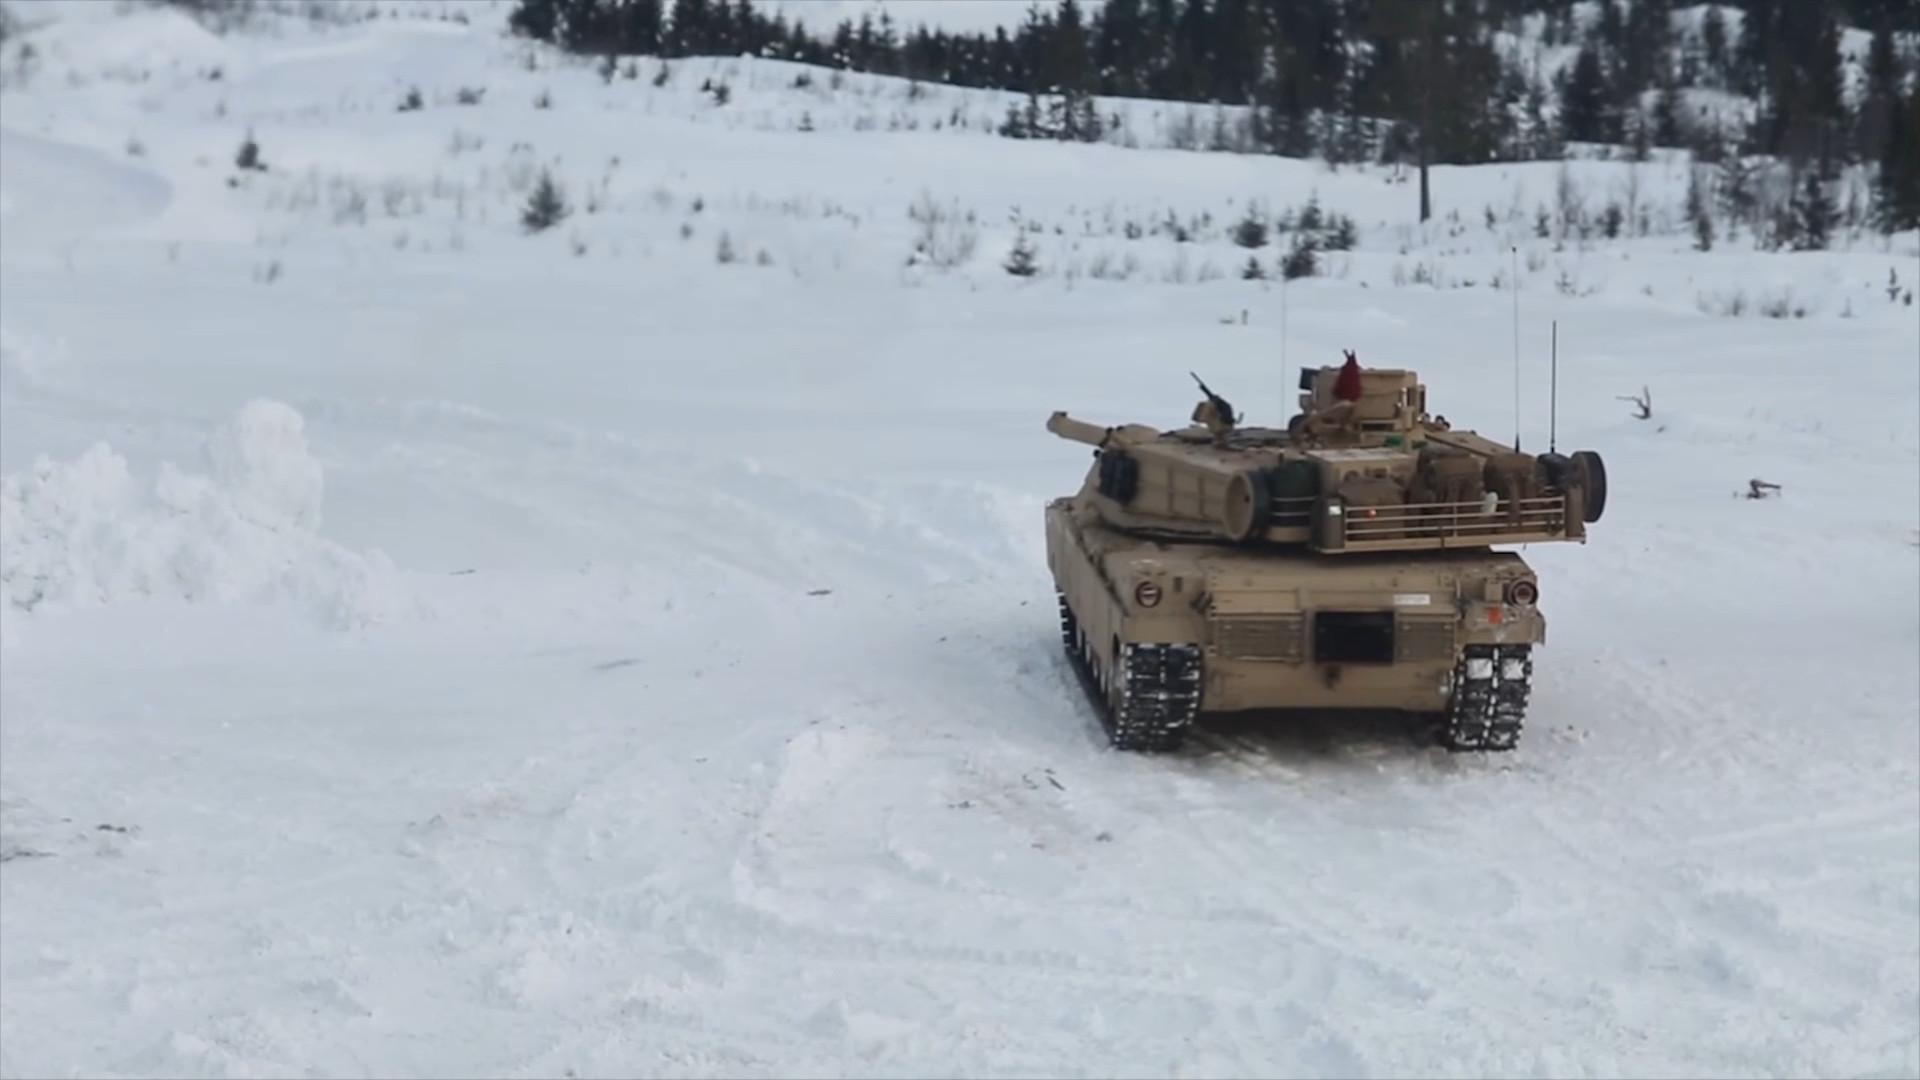tank: (1044, 368, 1604, 753)
